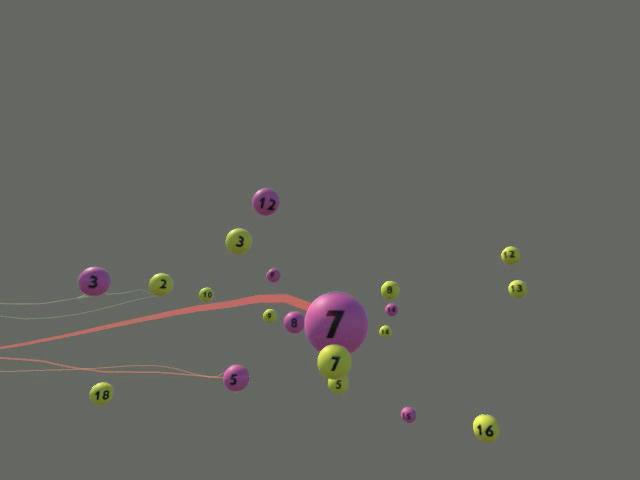ball_02_yellow: (147, 272, 173, 296)
ball_03_pink: (77, 266, 110, 296)
ball_03_yellow: (224, 227, 251, 254)
ball_05_pink: (222, 364, 249, 391)
ball_05_yellow: (327, 377, 348, 393)
ball_07_pink: (303, 291, 368, 353)
ball_07_yellow: (317, 344, 351, 379)
ball_08_pink: (283, 311, 304, 333)
ball_08_yellow: (380, 281, 399, 299)
ball_09_pink: (266, 268, 281, 283)
ball_09_yellow: (262, 309, 277, 323)
ball_10_yellow: (198, 287, 214, 303)
ball_12_pink: (251, 187, 279, 215)
ball_12_yellow: (500, 246, 520, 264)
ball_13_yellow: (507, 279, 527, 297)
ball_14_pink: (384, 302, 398, 317)
ball_14_yellow: (379, 325, 392, 338)
ball_15_pink: (400, 406, 415, 423)
ball_16_yellow: (472, 413, 499, 441)
ball_18_yellow: (89, 382, 113, 405)
